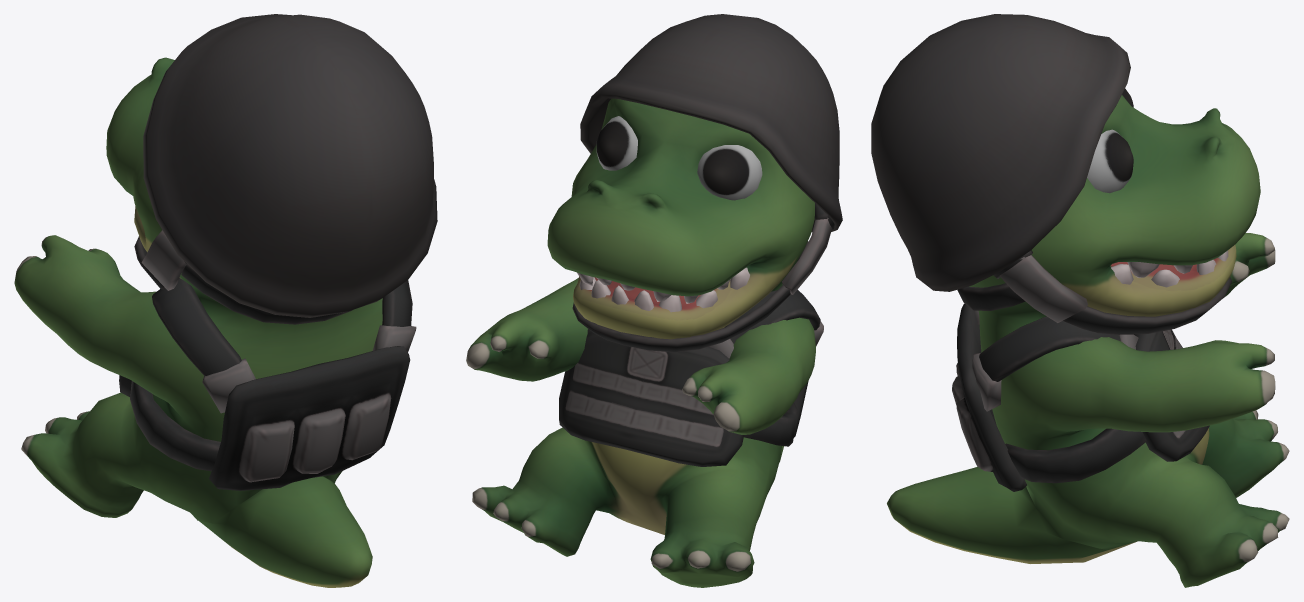
Rendered from Ride_Trex_Pose.fbx.
The picture shows the model from 3 angles, left to right: view 1: azimuth 30°, elevation 25°; view 2: azimuth 150°, elevation 25°; view 3: azimuth 270°, elevation 25°; orthographic projection. The views are drawn at different scales.
Visible parts, largest first — view 1: Body; view 2: Body; view 3: Body.
Boxes of the visible parts, left/top/right/bottom form: Body: left=14, top=14, right=437, bottom=587; Body: left=466, top=14, right=842, bottom=587; Body: left=871, top=14, right=1289, bottom=587.
Bounding box in the file's own units: 51.23 × 60.81 × 85.84.
